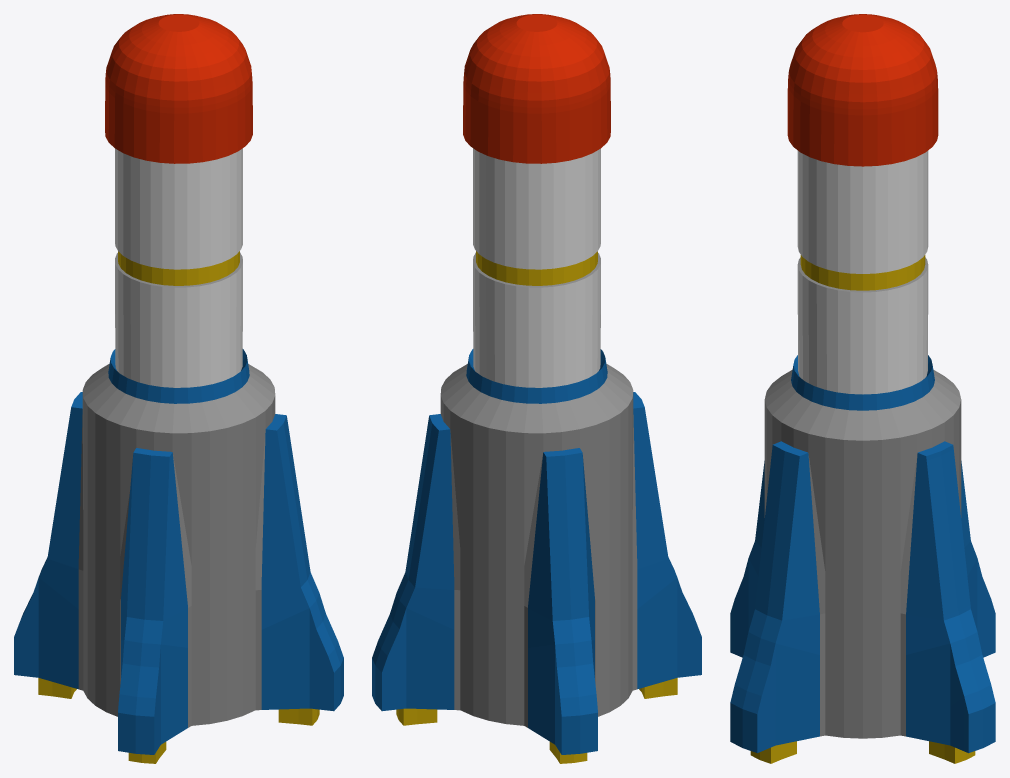
File: Rocket.fbx
3 renders of one model, left to right at view 1: azimuth 30°, elevation 25°; view 2: azimuth 150°, elevation 25°; view 3: azimuth 270°, elevation 25°, orthographic.
Parts seen in each view (by area): view 1: Cylinder; view 2: Cylinder; view 3: Cylinder.
Part boxes in pixels (x1,y1,x2,y2): Cylinder: (14, 14, 343, 763); Cylinder: (372, 14, 701, 763); Cylinder: (730, 14, 995, 763).
Bounding box in the file's own units: 142 × 409 × 142.
